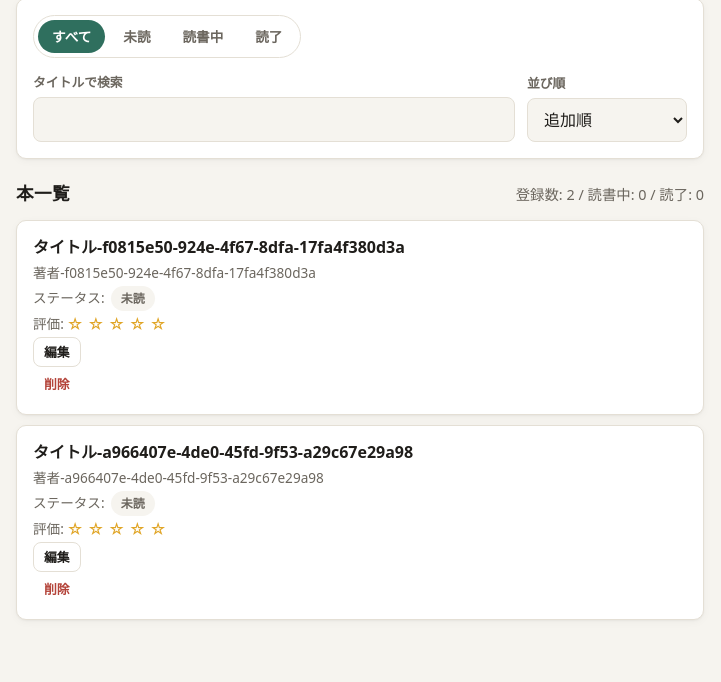
it: App › 本の編集 › 本のタイトルと著者を編集できる
(page scrolled)
Click the 1st button "編集": click(57, 352) x1=33 y1=337 x2=81 y2=367
(page scrolled)
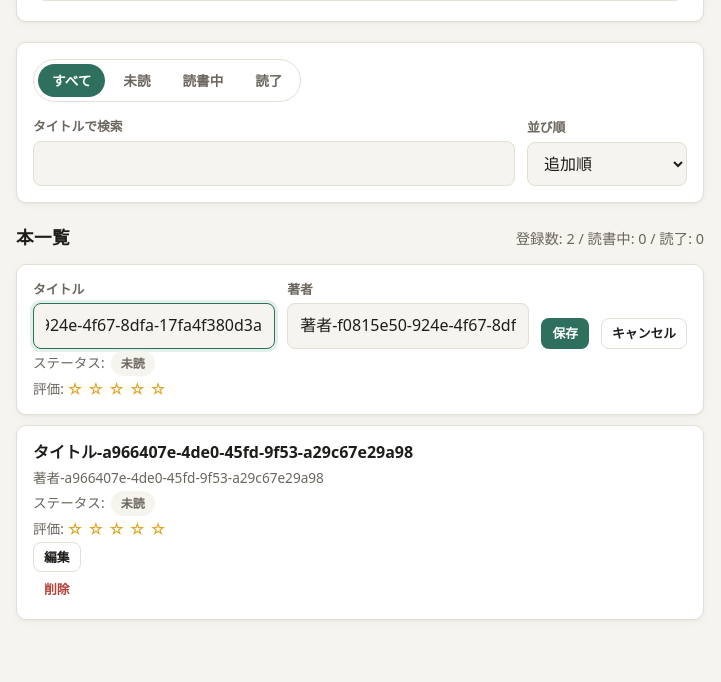
Replace the text in the field labelled "タイトル" with "新しいタイトル": (154, 326) x1=33 y1=303 x2=275 y2=349
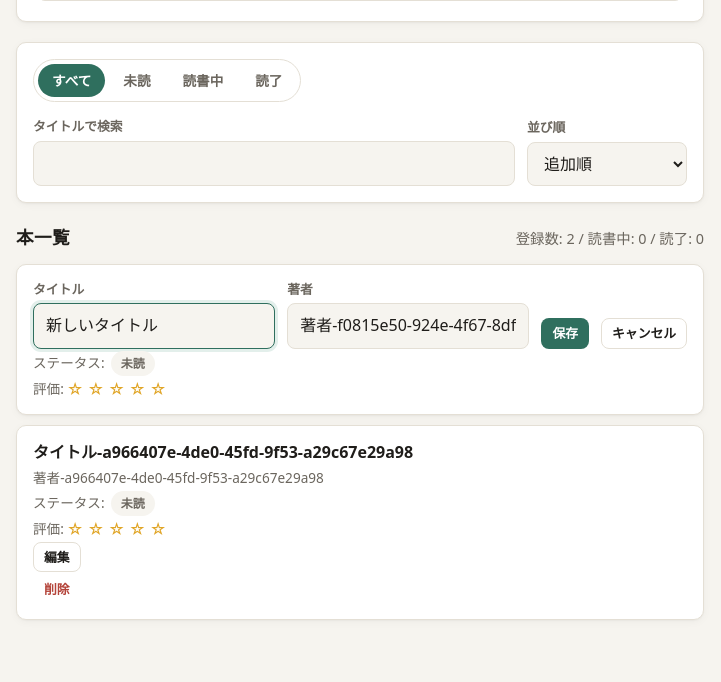
Replace the text in the field labelled "著者" with "新しい著者": (408, 326) x1=287 y1=303 x2=529 y2=349
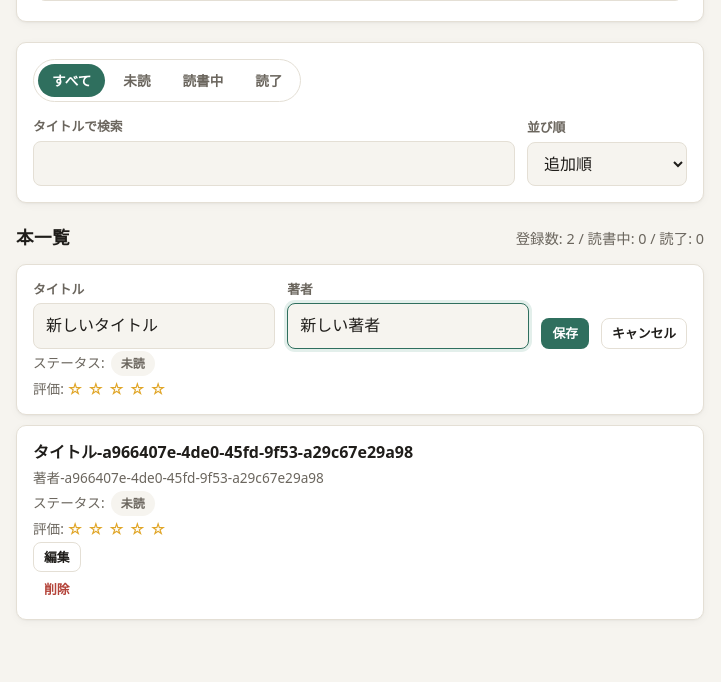
Click the button "保存": click(565, 333) x1=541 y1=318 x2=589 y2=349
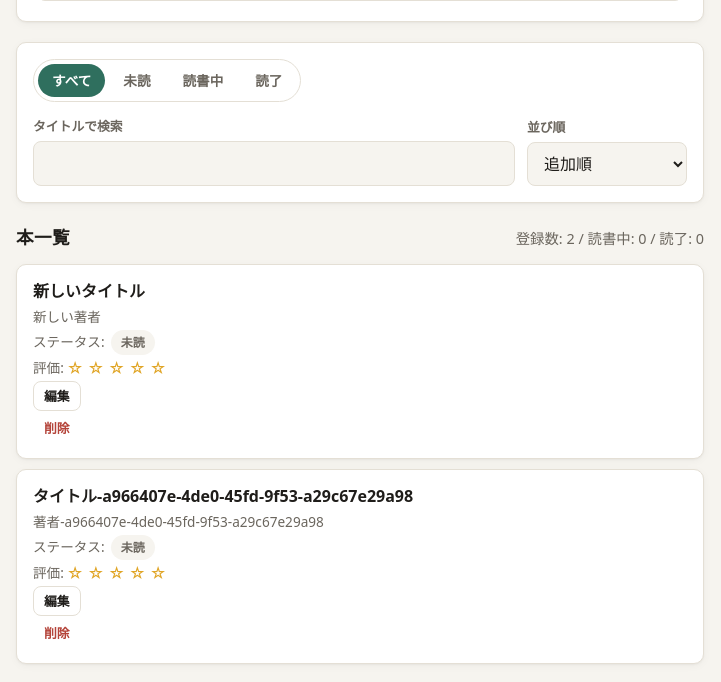
Expected: the heading "新しいタイトル" is shown, x1=33 y1=278 x2=145 y2=304
Expected: the text "新しい著者" is shown, x1=33 y1=306 x2=101 y2=328
